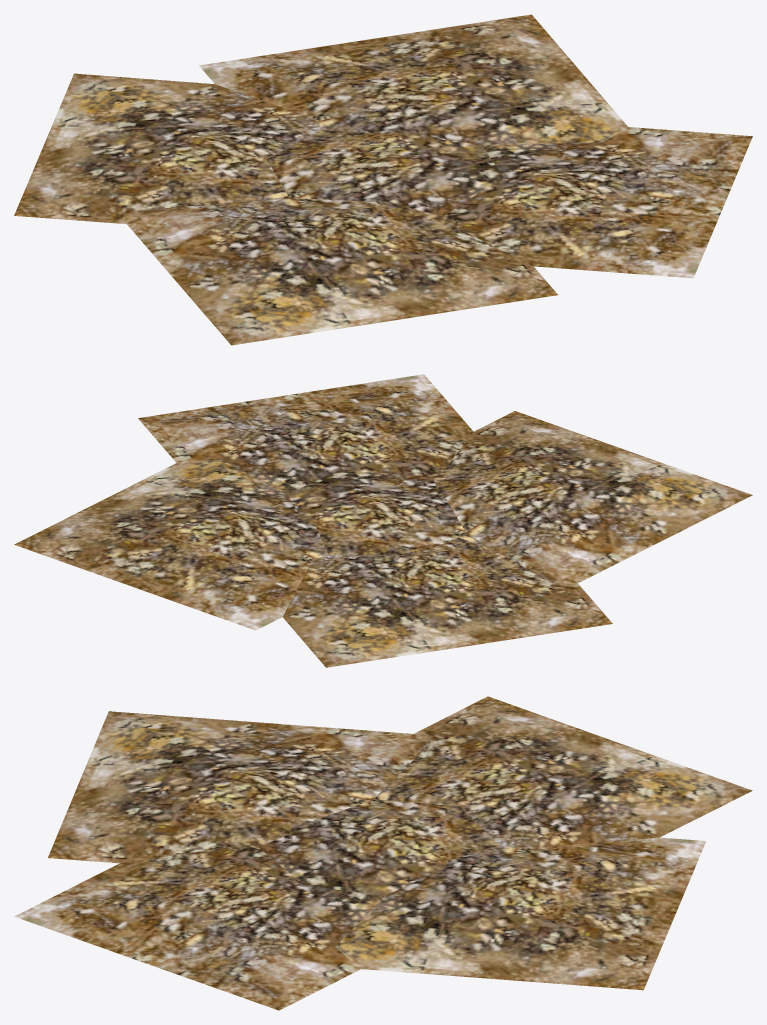
File: idle.glb
The picture shows the model from 3 angles, top to bottom: view 1: azimuth 30°, elevation 25°; view 2: azimuth 150°, elevation 25°; view 3: azimuth 270°, elevation 25°; orthographic projection. The views are drawn at different scales.
Visible parts, largest first — view 1: MeshRoot; view 2: MeshRoot; view 3: MeshRoot.
Boxes of the visible parts, left/top/right/bottom form: MeshRoot: left=14, top=14, right=752, bottom=345; MeshRoot: left=14, top=374, right=752, bottom=667; MeshRoot: left=14, top=696, right=752, bottom=1010.
Bounding box in the file's own units: 14.47 × 0.3958 × 14.38.
1 material, 1 textured.
